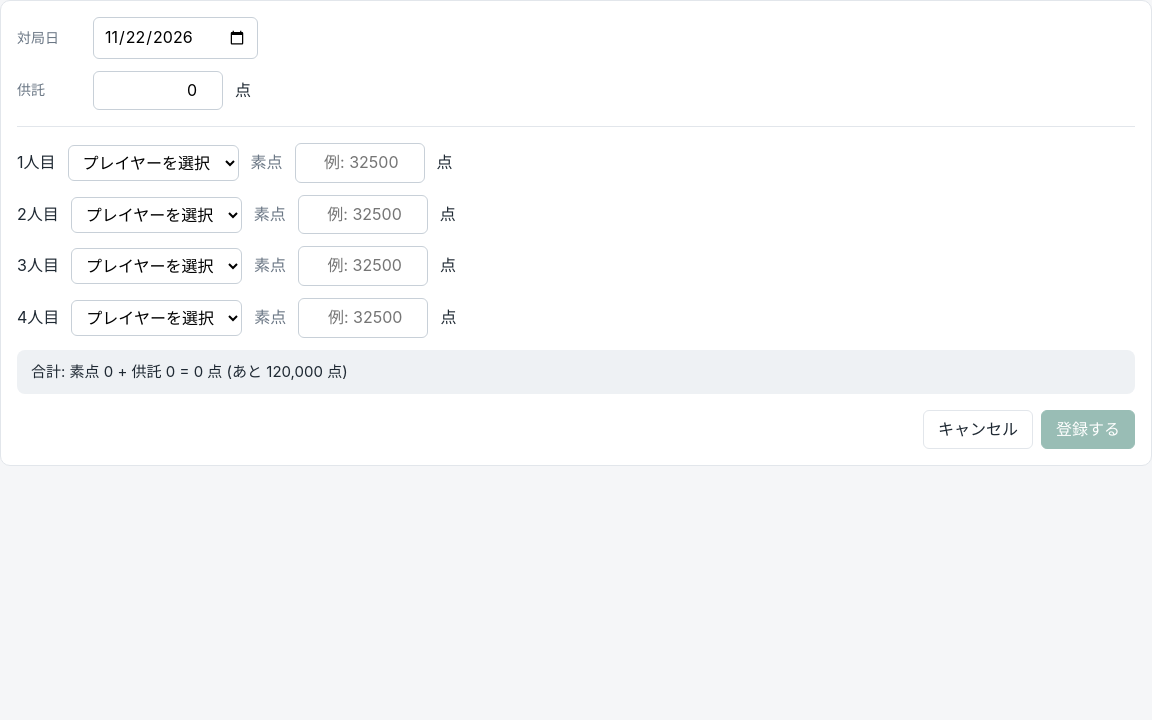
Test: 合計の表示と入力チェック › 素点を入れるたびに、合計と、あと何点かを表示する
Type "42500" into the number field named "1人目の素点".
click(360, 163); type("42500")  # box [294,143,424,183]
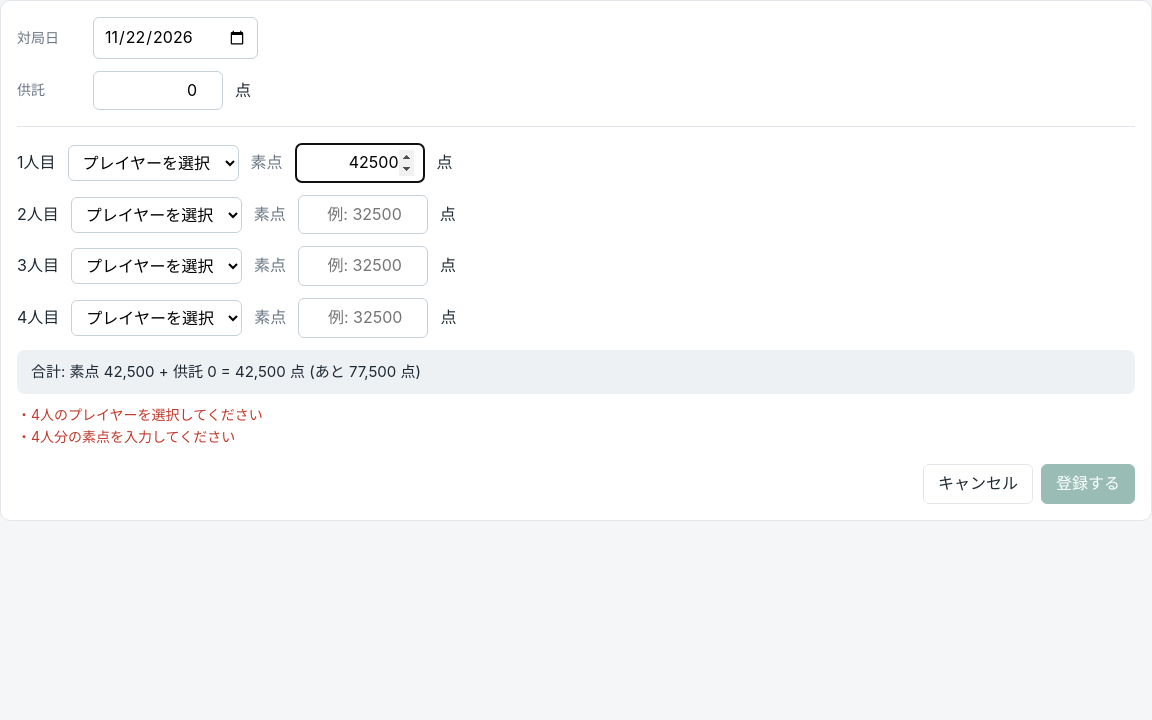
Expected: the text "合計: 素点 42,500 + 供託 0 = 42,500 点 (あと 77,500 点)" is shown, [17,350,1135,394]
